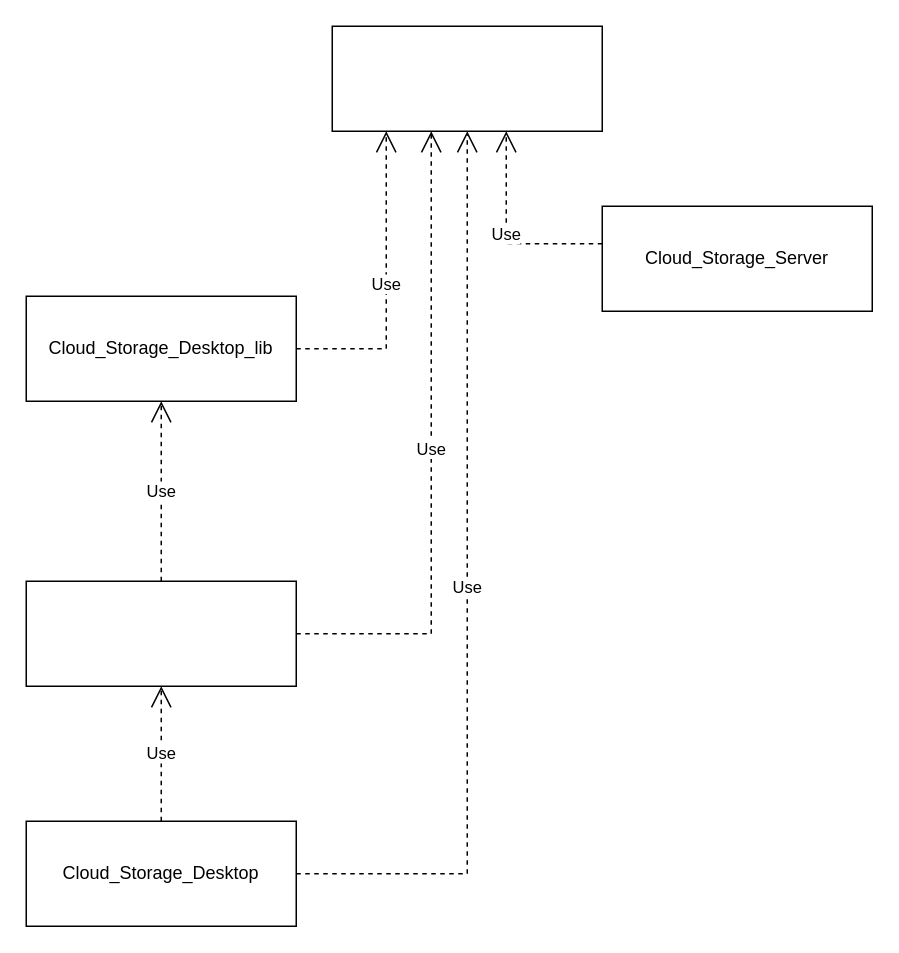
The diagram is 899 pixels wide and 953 high, and some of its shapes have lost their labels. The shapes that lost their labels are listed below. From the top down, each one's centre as x and y in pixels, then its label:
(x=466, y=78): Cloud_Storage_Common
(x=160, y=633): CloudDriveSyncService
